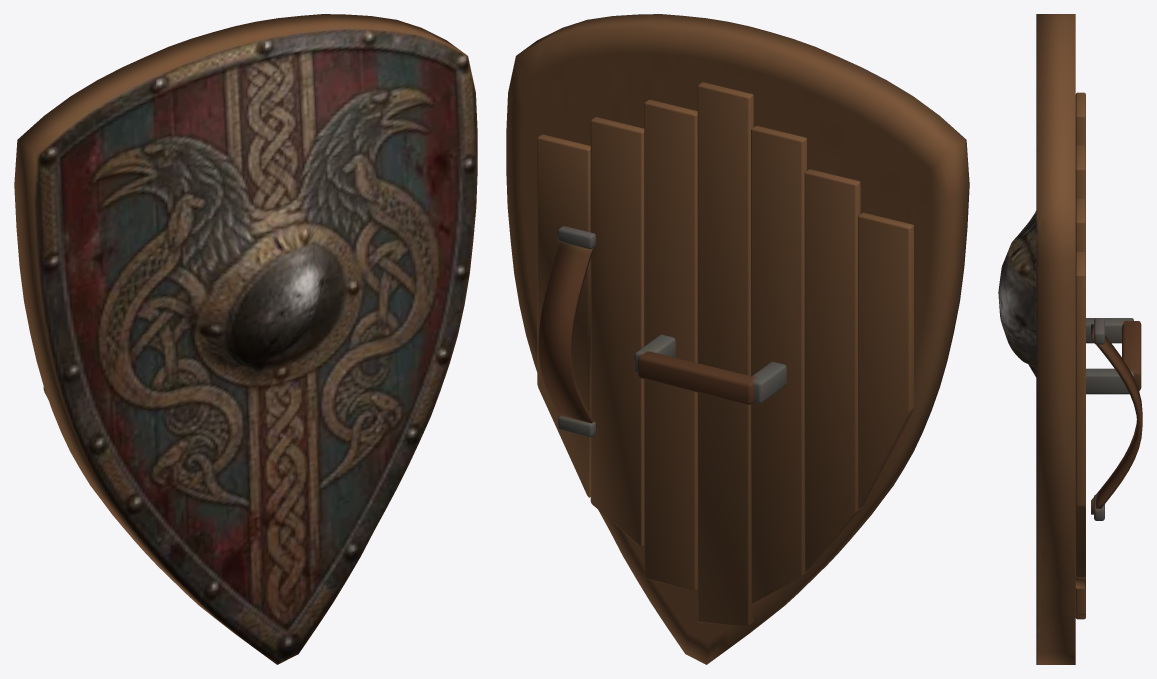
File: shieldmaiden-ornate.glb
3 renders of one model, left to right at view 1: azimuth 30°, elevation 25°; view 2: azimuth 150°, elevation 25°; view 3: azimuth 270°, elevation 25°, orthographic. The views are drawn at different scales.
Parts seen in each view (by area): view 1: shieldmaiden-ornate; view 2: shieldmaiden-ornate; view 3: shieldmaiden-ornate.
Boxes of the visible parts, x1,y1,x2,y2 form: shieldmaiden-ornate: (14, 14, 477, 664); shieldmaiden-ornate: (506, 14, 969, 664); shieldmaiden-ornate: (998, 14, 1142, 664).
Size of the model in its own units: 0.5419 by 0.7358 by 0.163.
1 material, 1 textured.
